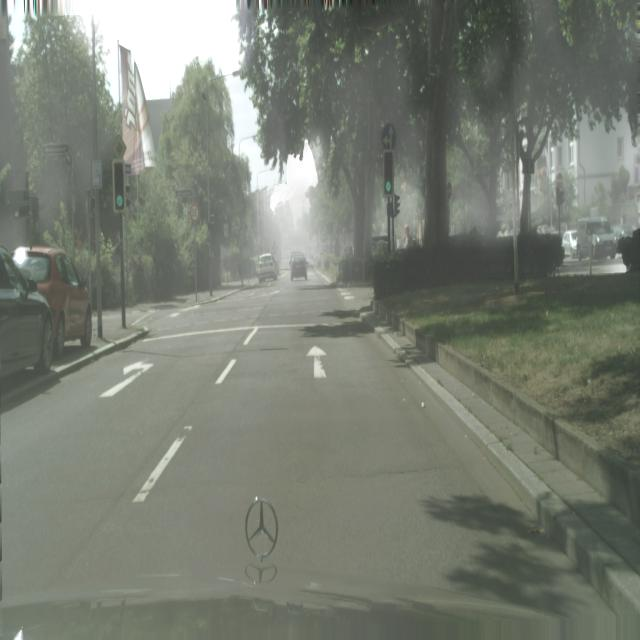person: (12, 244, 92, 358), (0, 245, 55, 382), (576, 217, 616, 261), (257, 253, 277, 282), (290, 251, 308, 281), (562, 230, 578, 259)
